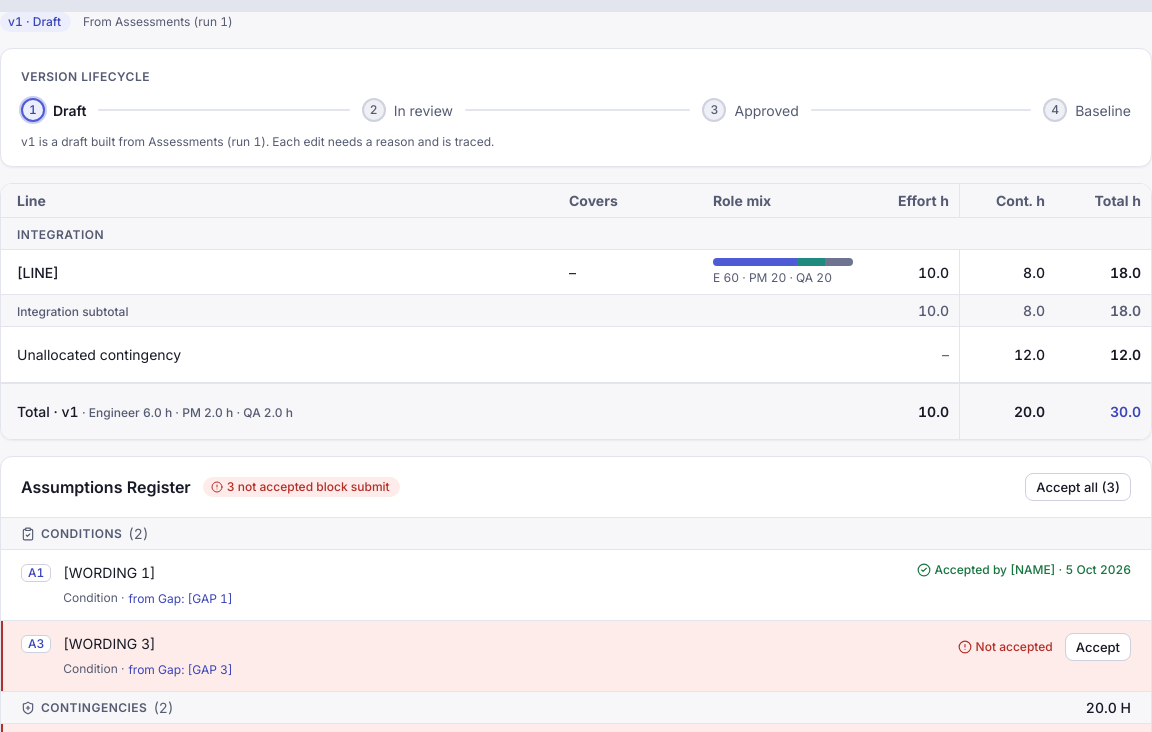
Test: the Assumptions Register › Accept all accepts the rest and hides itself once none is left
The image size is (1152, 732).
Step 1. Click the button "Accept all (3)" → (1078, 487), box [1025, 473, 1131, 501]
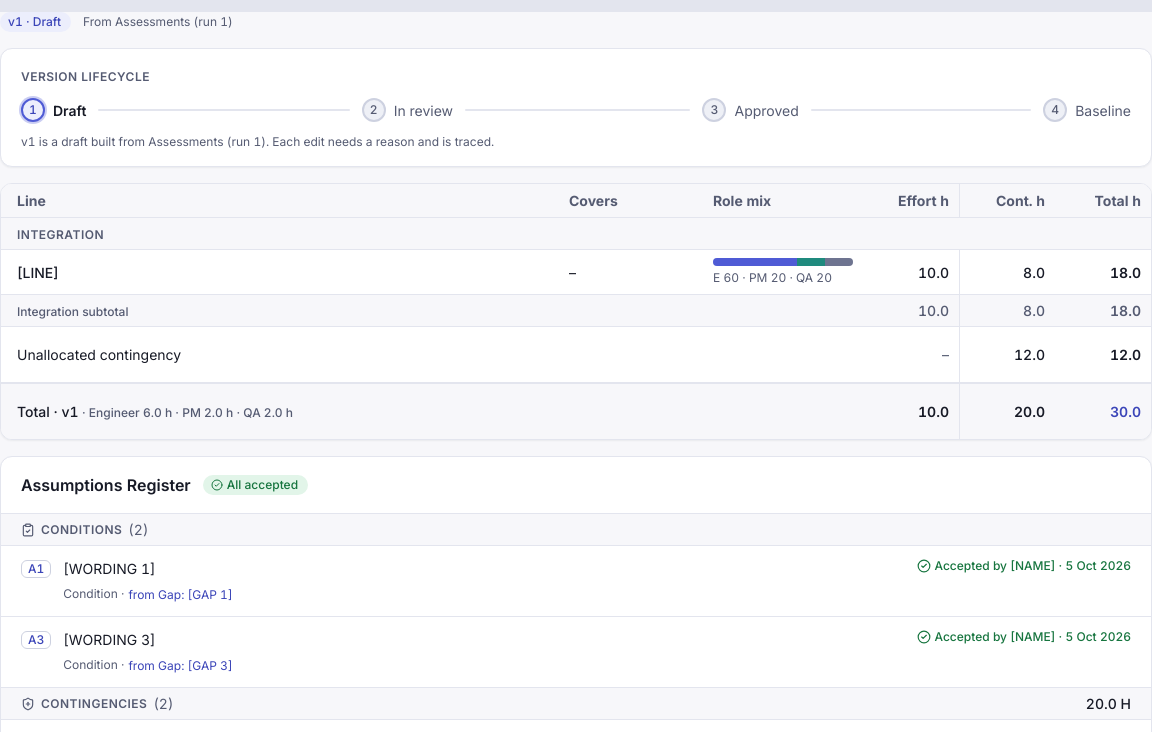
Expected: the button "Accept all" is gone
